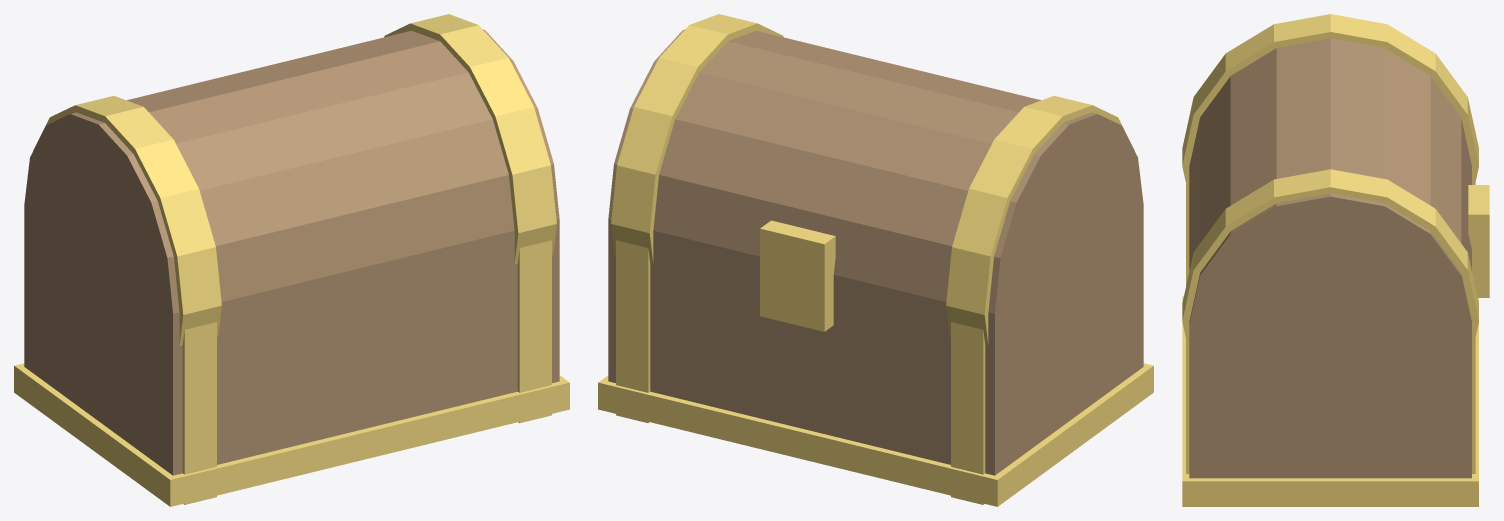
The model's file is QuestChest.fbx.
3 renders of one model, left to right at view 1: azimuth 30°, elevation 25°; view 2: azimuth 150°, elevation 25°; view 3: azimuth 270°, elevation 25°, orthographic. The views are drawn at different scales.
Parts seen in each view (by area): view 1: Chest_Lid, Chest_Body, Chest_Gold, Chest_Gold.003, Chest_Gold.004, Chest_Gold.001, Chest_Gold.002; view 2: Chest_Lid, Chest_Body, Chest_Gold, Chest_Gold.003, Chest_Gold.004, Chest_Lock, Chest_Gold.001, Chest_Gold.002; view 3: Chest_Lid, Chest_Body, Chest_Gold, Chest_Gold.004, Chest_Gold.003, Chest_Lock, Chest_Gold.002, Chest_Gold.001.
Part boxes in pixels (left/top/right/bottom): Chest_Lid: left=24, top=29, right=559, bottom=404; Chest_Body: left=24, top=205, right=559, bottom=475; Chest_Gold: left=14, top=363, right=569, bottom=506; Chest_Gold.003: left=33, top=96, right=221, bottom=345; Chest_Gold.004: left=384, top=14, right=556, bottom=264; Chest_Gold.001: left=182, top=322, right=216, bottom=504; Chest_Gold.002: left=517, top=240, right=551, bottom=423; Chest_Lid: left=608, top=29, right=1143, bottom=404; Chest_Body: left=608, top=205, right=1143, bottom=475; Chest_Gold: left=598, top=363, right=1153, bottom=506; Chest_Gold.003: left=946, top=96, right=1134, bottom=345; Chest_Gold.004: left=611, top=14, right=783, bottom=264; Chest_Lock: left=760, top=220, right=835, bottom=331; Chest_Gold.001: left=951, top=322, right=985, bottom=504; Chest_Gold.002: left=616, top=240, right=650, bottom=423; Chest_Lid: left=1189, top=38, right=1471, bottom=443; Chest_Body: left=1189, top=324, right=1471, bottom=478; Chest_Gold: left=1182, top=296, right=1478, bottom=506; Chest_Gold.004: left=1182, top=169, right=1478, bottom=352; Chest_Gold.003: left=1182, top=14, right=1478, bottom=197; Chest_Lock: left=1468, top=185, right=1489, bottom=297; Chest_Gold.002: left=1186, top=338, right=1475, bottom=473; Chest_Gold.001: left=1186, top=183, right=1475, bottom=285.
Bounding box in the file's own units: 174 × 139 × 122.
